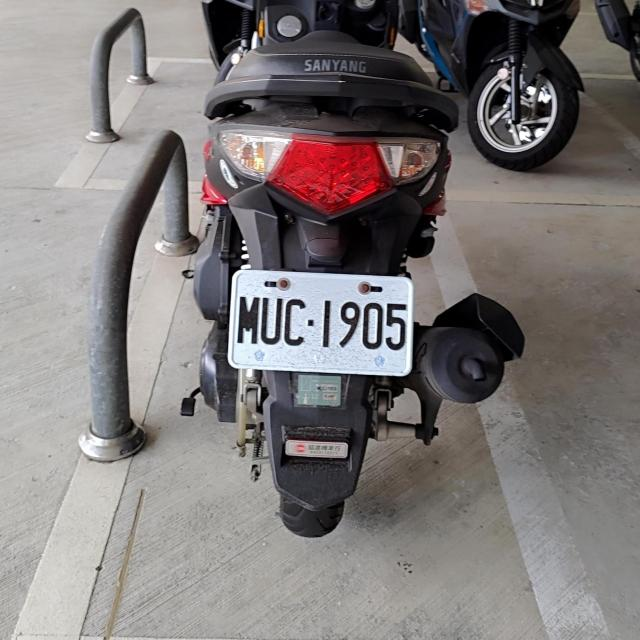W: (228, 269, 413, 374)
